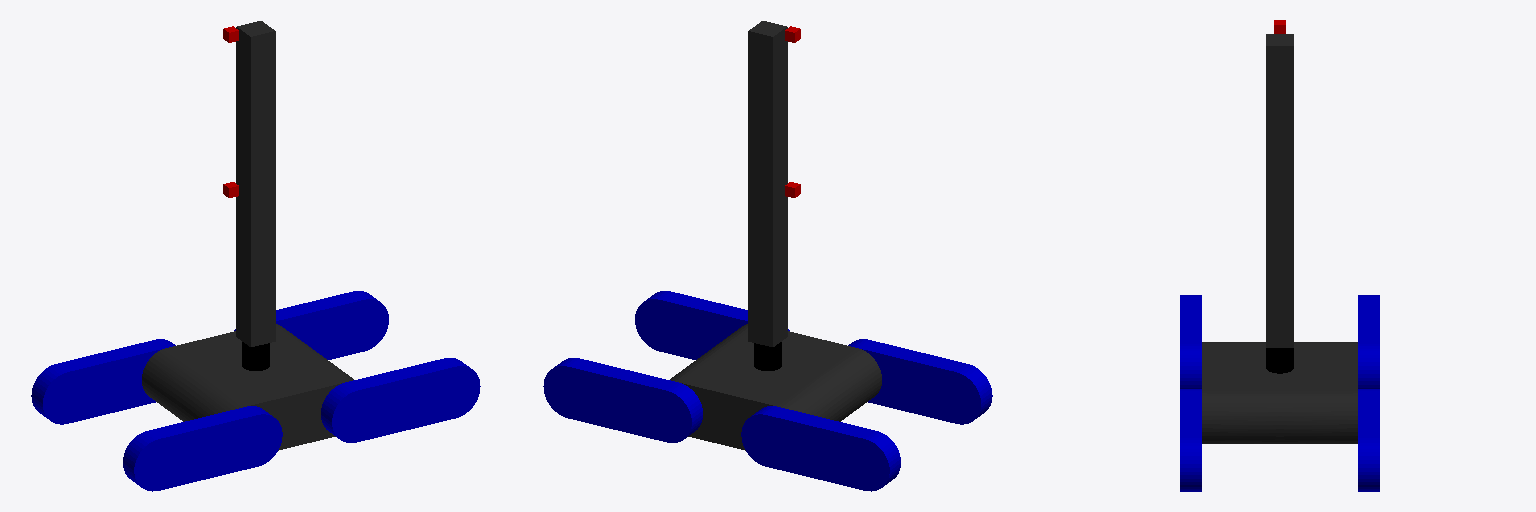
URDF robot description (tracked):
<?xml version="1.0" ?>
<!-- =================================================================================== -->
<!-- |    This document was autogenerated by xacro from [local-path]/kitani_ws/src/sne_rollover_recovery/tracked_robot/tracked_description/urdf/gazebo/tracked.xacro | -->
<!-- |    EDITING THIS FILE BY HAND IS NOT RECOMMENDED                                 | -->
<!-- =================================================================================== -->
<!-- Revolute-Revolute Manipulator -->
<robot name="tracked" xmlns:xacro="http://www.ros.org/wiki/xacro">
  <!-- Constants for robot dimensions -->
  <!-- flipper mass -->
  <!-- main mass -->
  <!-- motor1 mass -->
  <!-- motor2 mass -->
  <!-- motor3 mass -->
  <!-- motor4 mass -->
  <!-- l2 mass -->
  <!-- l3 mass -->
  <!-- flipper height -->
  <!-- flipper depth -->
  <!-- flipper width -->
  <!-- flipper axis width -->
  <!-- main height -->
  <!-- main depth -->
  <!-- main width -->
  <!-- main axis width -->
  <!-- l1 -->
  <!-- link2 length -->
  <!-- link3 length -->
  <!-- motor height -->
  <!-- Square dimensions (widthxwidth) of beams -->
  <!-- Link 1 -->
  <!-- Link 2 -->
  <!-- Link 3 -->
  <!-- arbitrary value for mass -->
  <!-- velocity limit of arm motor -->
  <!-- effort limit of arm motor -->
  <!-- velocity limit of flipper motor -->
  <!-- effort limit of flipper motor -->
  <!-- Size of square 'camera' box -->
  <!-- Space btw top of beam and the each joint -->
  <!-- Import all Gazebo-customization elements, including Gazebo colors -->
  <!-- ros_control plugin -->
  <gazebo>
    <plugin filename="libgazebo_ros_control.so" name="gazebo_ros_control">
      <robotNamespace>/tracked</robotNamespace>
      <robotSimType>gazebo_ros_control/DefaultRobotHWSim</robotSimType>
    </plugin>
  </gazebo>
  <gazebo reference="FL">
    <!--    <selfCollide>true</selfCollide>-->
    <mu1>0.8</mu1>
    <mu2>0.5</mu2>
    <material>Gazebo/Blue</material>
  </gazebo>
  <gazebo reference="FR">
    <!--    <selfCollide>true</selfCollide>-->
    <mu1>0.8</mu1>
    <mu2>0.5</mu2>
    <material>Gazebo/Blue</material>
  </gazebo>
  <gazebo reference="RL">
    <!--    <selfCollide>true</selfCollide>-->
    <mu1>0.8</mu1>
    <mu2>0.5</mu2>
    <material>Gazebo/Blue</material>
  </gazebo>
  <gazebo reference="RR">
    <!--    <selfCollide>true</selfCollide>-->
    <mu1>0.8</mu1>
    <mu2>0.5</mu2>
    <material>Gazebo/Blue</material>
  </gazebo>
  <gazebo reference="base">
    <mu1>0.8</mu1>
    <mu2>0.5</mu2>
    <material>Gazebo/Grey</material>
  </gazebo>
  <gazebo reference="link2">
    <mu1>0.8</mu1>
    <mu2>0.5</mu2>
    <material>Gazebo/Grey</material>
  </gazebo>
  <gazebo reference="link3">
    <mu1>0.8</mu1>
    <mu2>0.5</mu2>
    <material>Gazebo/Grey</material>
  </gazebo>
  <gazebo reference="m1">
    <mu1>0.8</mu1>
    <mu2>0.5</mu2>
    <material>Gazebo/Grey</material>
  </gazebo>
  <gazebo reference="wheel_right_front">
    <mu1>0.2</mu1>
    <mu2>0.2</mu2>
  </gazebo>
  <gazebo reference="wheel_right_rear">
    <mu1>0.2</mu1>
    <mu2>0.2</mu2>
  </gazebo>
  <gazebo reference="wheel_left_front">
    <mu1>0.2</mu1>
    <mu2>0.2</mu2>
  </gazebo>
  <gazebo reference="wheel_left_rear">
    <mu1>0.2</mu1>
    <mu2>0.2</mu2>
  </gazebo>
  <!-- camera_link -->
  <gazebo reference="camera1">
    <mu1>0.2</mu1>
    <mu2>0.2</mu2>
    <material>Gazebo/Red</material>
  </gazebo>
  <gazebo reference="camera2">
    <mu1>0.2</mu1>
    <mu2>0.2</mu2>
    <material>Gazebo/Red</material>
  </gazebo>
  <!-- hokuyo -->
  <gazebo reference="hokuyo">
    <sensor name="head_hokuyo_sensor" type="gpu_ray">
      <pose>0 0 0 0 0 0</pose>
      <visualize>false</visualize>
      <update_rate>40</update_rate>
      <ray>
        <scan>
          <horizontal>
            <samples>720</samples>
            <resolution>1</resolution>
            <min_angle>-1.570796</min_angle>
            <max_angle>1.570796</max_angle>
          </horizontal>
        </scan>
        <range>
          <min>0.10</min>
          <max>30.0</max>
          <resolution>0.01</resolution>
        </range>
        <noise>
          <type>gaussian</type>
          <!-- Noise parameters based on published spec for Hokuyo laser
               achieving "+-30mm" accuracy at range < 10m.  A mean of 0.0m and
               stddev of 0.01m will put 99.7% of samples within 0.03m of the true
               reading. -->
          <mean>0.0</mean>
          <stddev>0.01</stddev>
        </noise>
      </ray>
      <plugin filename="libgazebo_ros_gpu_laser.so" name="gazebo_ros_head_hokuyo_controller">
        <topicName>/tracked/laser/scan</topicName>
        <frameName>hokuyo</frameName>
      </plugin>
    </sensor>
  </gazebo>
  <!-- camera -->
  <gazebo reference="camera1_optical">
    <sensor name="camera1_optical" type="camera">
      <update_rate>30.0</update_rate>
      <camera name="head">
        <horizontal_fov>1.3962634</horizontal_fov>
        <image>
          <width>640</width>
          <height>480</height>
          <format>R8G8B8</format>
        </image>
        <clip>
          <near>0.02</near>
          <far>300</far>
        </clip>
        <noise>
          <type>gaussian</type>
          <!-- Noise is sampled independently per pixel on each frame.
               That pixel's noise value is added to each of its color
               channels, which at that point lie in the range [0,1]. -->
          <mean>0.0</mean>
          <stddev>0.007</stddev>
        </noise>
      </camera>
      <plugin filename="libgazebo_ros_camera.so" name="camera_controller">
        <alwaysOn>true</alwaysOn>
        <updateRate>0.0</updateRate>
        <cameraName>tracked/camera1</cameraName>
        <imageTopicName>image_raw</imageTopicName>
        <cameraInfoTopicName>camera_info</cameraInfoTopicName>
        <frameName>camera1_link_optical</frameName>
        <!-- setting hackBaseline to anything but 0.0 will cause a misalignment
            between the gazebo sensor image and the frame it is supposed to
            be attached to -->
        <hackBaseline>0.0</hackBaseline>
        <distortionK1>0.0</distortionK1>
        <distortionK2>0.0</distortionK2>
        <distortionK3>0.0</distortionK3>
        <distortionT1>0.0</distortionT1>
        <distortionT2>0.0</distortionT2>
        <CxPrime>0</CxPrime>
        <Cx>0.0</Cx>
        <Cy>0.0</Cy>
        <focalLength>0.0</focalLength>
      </plugin>
    </sensor>
  </gazebo>
  <!-- camera -->
  <gazebo reference="camera2_optical">
    <sensor name="camera2_optical" type="camera">
      <update_rate>30.0</update_rate>
      <camera name="head">
        <horizontal_fov>1.3962634</horizontal_fov>
        <image>
          <width>640</width>
          <height>480</height>
          <format>R8G8B8</format>
        </image>
        <clip>
          <near>0.02</near>
          <far>300</far>
        </clip>
        <noise>
          <type>gaussian</type>
          <!-- Noise is sampled independently per pixel on each frame.
               That pixel's noise value is added to each of its color
               channels, which at that point lie in the range [0,1]. -->
          <mean>0.0</mean>
          <stddev>0.007</stddev>
        </noise>
      </camera>
      <plugin filename="libgazebo_ros_camera.so" name="camera_controller">
        <alwaysOn>true</alwaysOn>
        <updateRate>0.0</updateRate>
        <cameraName>tracked/camera2</cameraName>
        <imageTopicName>image_raw</imageTopicName>
        <cameraInfoTopicName>camera_info</cameraInfoTopicName>
        <frameName>camera1_link_optical</frameName>
        <!-- setting hackBaseline to anything but 0.0 will cause a misalignment
            between the gazebo sensor image and the frame it is supposed to
            be attached to -->
        <hackBaseline>0.0</hackBaseline>
        <distortionK1>0.0</distortionK1>
        <distortionK2>0.0</distortionK2>
        <distortionK3>0.0</distortionK3>
        <distortionT1>0.0</distortionT1>
        <distortionT2>0.0</distortionT2>
        <CxPrime>0</CxPrime>
        <Cx>0.0</Cx>
        <Cy>0.0</Cy>
        <focalLength>0.0</focalLength>
      </plugin>
    </sensor>
  </gazebo>
  <!-- Import Rviz colors -->
  <material name="black">
    <color rgba="0.0 0.0 0.0 1.0"/>
  </material>
  <material name="blue">
    <color rgba="0.0 0.0 0.8 1.0"/>
  </material>
  <material name="green">
    <color rgba="0.0 0.8 0.0 1.0"/>
  </material>
  <material name="grey">
    <color rgba="0.2 0.2 0.2 1.0"/>
  </material>
  <material name="orange">
    <color rgba="1.0 0.423529411765 0.0392156862745 1.0"/>
  </material>
  <material name="brown">
    <color rgba="0.870588235294 0.811764705882 0.764705882353 1.0"/>
  </material>
  <material name="red">
    <color rgba="0.8 0.0 0.0 1.0"/>
  </material>
  <material name="white">
    <color rgba="1.0 1.0 1.0 1.0"/>
  </material>
  <!-- arm xacro files-->
  <!--You can import one of them-->
  <!--  <xacro:include filename="$(find tracked_description)/urdf/gazebo/tracked_arm_continuous_position.xacro" />-->
  <joint name="base2m1" type="revolute">
    <parent link="base"/>
    <child link="m1"/>
    <origin rpy="0 0 3.14159265359" xyz="0 0 0.05"/>
    <axis xyz="0 0 1"/>
    <limit effort="10" lower="-3.14159265359" upper="3.14159265359" velocity="3"/>
    <dynamics damping="0.7"/>
  </joint>
  <link name="m1">
    <collision>
      <origin rpy="0 0 0" xyz="0 0 0.025"/>
      <geometry>
        <mesh filename="package://tracked_description/meshes/motor_a.stl"/>
      </geometry>
    </collision>
    <visual>
      <origin rpy="0 0 0" xyz="0 0 0.025"/>
      <geometry>
        <mesh filename="package://tracked_description/meshes/motor_a.stl"/>
      </geometry>
      <material name="black"/>
    </visual>
    <inertial>
      <origin rpy="0 0 0" xyz="0 0 0.025"/>
      <mass value="0.2"/>
      <inertia ixx="0.000907922" ixy="0.0" ixz="0.0" iyy="0.007360669" iyz="0.0" izz="0.006719413"/>
    </inertial>
  </link>
  <joint name="joint1" type="revolute">
    <parent link="m1"/>
    <child link="link2"/>
    <origin rpy="0 0 0" xyz="0 0 0.05"/>
    <axis xyz="0 -1 0"/>
    <limit effort="1000000" lower="-3.14159265359" upper="3.14159265359" velocity="3"/>
    <dynamics damping="0.7"/>
  </joint>
  <!-- Middle Link -->
  <link name="link2">
    <collision>
      <origin rpy="0 0 0" xyz="0 0 0.15"/>
      <geometry>
        <box size="0.05 0.05 0.3"/>
      </geometry>
    </collision>
    <visual>
      <origin rpy="0 0 0" xyz="0 0 0.15"/>
      <geometry>
        <box size="0.05 0.05 0.3"/>
      </geometry>
      <material name="grey"/>
    </visual>
    <inertial>
      <origin rpy="0 0 0" xyz="0 0 0.15"/>
      <mass value="0.8"/>
      <inertia ixx="0.00616666666667" ixy="0.0" ixz="0.0" iyy="0.00616666666667" iyz="0.0" izz="0.000333333333333"/>
    </inertial>
  </link>
  <joint name="joint2" type="revolute">
    <parent link="link2"/>
    <child link="link3"/>
    <origin rpy="0 0 0" xyz="0 0 0.3"/>
    <axis xyz="0 1 0"/>
    <limit effort="1000000" lower="-3.14159265359" upper="3.14159265359" velocity="3"/>
    <dynamics damping="0.7"/>
  </joint>
  <!-- Top Link -->
  <link name="link3">
    <collision>
      <origin rpy="0 0 0" xyz="0 0 0.15"/>
      <geometry>
        <box size="0.05 0.05 0.3"/>
      </geometry>
    </collision>
    <visual>
      <origin rpy="0 0 0" xyz="0 0 0.15"/>
      <geometry>
        <box size="0.05 0.05 0.3"/>
      </geometry>
      <material name="grey"/>
    </visual>
    <inertial>
      <origin rpy="0 0 0" xyz="0 0 0.15"/>
      <mass value="0.3"/>
      <inertia ixx="0.00616666666667" ixy="0.0" ixz="0.0" iyy="0.00616666666667" iyz="0.0" izz="0.000333333333333"/>
    </inertial>
  </link>
  <joint name="link3_2camera2" type="fixed">
    <parent link="link3"/>
    <child link="camera2"/>
    <origin rpy="3.14159265359 1.57079632679 3.14159265359" xyz="0.05 0 0.3"/>
  </joint>
  <link name="camera2">
    <visual>
      <origin rpy="0 0 0" xyz="0 0 0"/>
      <geometry>
        <box size="0.02 0.02 0.02"/>
      </geometry>
      <material name="red"/>
    </visual>
  </link>
  <joint name="link3_2camera1" type="fixed">
    <origin rpy="3.14159265359 1.57079632679 3.14159265359" xyz="0.05 0 0"/>
    <parent link="link3"/>
    <child link="camera1"/>
  </joint>
  <!-- Camera -->
  <link name="camera1">
    <visual>
      <origin rpy="0 0 0" xyz="0 0 0"/>
      <geometry>
        <box size="0.02 0.02 0.02"/>
      </geometry>
      <material name="red"/>
    </visual>
  </link>
  <!-- generate an optical frame http://www.ros.org/reps/rep-0103.html#suffix-frames
      so that ros and opencv can operate on the camera frame correctly -->
  <joint name="camera1_optical_joint" type="fixed">
    <!-- these values have to be these values otherwise the gazebo camera image
        won't be aligned properly with the frame it is supposedly originating from -->
    <origin rpy="0.0 0.0 3.14159265359" xyz="0 0 0"/>
    <parent link="camera1"/>
    <child link="camera1_optical"/>
  </joint>
  <link name="camera1_optical">
  </link>
  <joint name="camera2_optical_joint" type="fixed">
    <!-- these values have to be these values otherwise the gazebo camera image
        won't be aligned properly with the frame it is supposedly originating from -->
    <origin rpy="0.0 0.0 3.14159265359" xyz="0 0 0"/>
    <parent link="camera2"/>
    <child link="camera2_optical"/>
  </joint>
  <link name="camera2_optical">
  </link>
  <transmission name="tran_base2m1">
    <type>transmission_interface/SimpleTransmission</type>
    <joint name="base2m1">
      <hardwareInterface>PositionJointInterface</hardwareInterface>
    </joint>
    <actuator name="motor_base2m1">
      <hardwareInterface>PositionJointInterface</hardwareInterface>
      <mechanicalReduction>1</mechanicalReduction>
    </actuator>
  </transmission>
  <transmission name="tran_joint1">
    <type>transmission_interface/SimpleTransmission</type>
    <joint name="joint1">
      <hardwareInterface>PositionJointInterface</hardwareInterface>
    </joint>
    <actuator name="motor_joint1">
      <hardwareInterface>PositionJointInterface</hardwareInterface>
      <mechanicalReduction>1</mechanicalReduction>
    </actuator>
  </transmission>
  <transmission name="tran_joint2">
    <type>transmission_interface/SimpleTransmission</type>
    <joint name="joint2">
      <hardwareInterface>PositionJointInterface</hardwareInterface>
    </joint>
    <actuator name="motor_joint2">
      <hardwareInterface>PositionJointInterface</hardwareInterface>
      <mechanicalReduction>1</mechanicalReduction>
    </actuator>
  </transmission>
  <!-- Force and torque sensor -->
  <gazebo reference="joint1">
    <provideFeedback>true</provideFeedback>
  </gazebo>
  <gazebo>
    <plugin filename="libgazebo_ros_ft_sensor.so" name="ft_sensor">
      <updateRate>100.0</updateRate>
      <topicName>/tracked/ft_sensor_joint1</topicName>
      <jointName>joint1</jointName>
    </plugin>
  </gazebo>
  <gazebo reference="joint2">
    <provideFeedback>true</provideFeedback>
  </gazebo>
  <gazebo>
    <plugin filename="libgazebo_ros_ft_sensor.so" name="ft_sensor">
      <updateRate>100.0</updateRate>
      <topicName>/tracked/ft_sensor_joint2</topicName>
      <jointName>joint2</jointName>
    </plugin>
  </gazebo>
  <!--  <xacro:include filename="$(find tracked_description)/urdf/gazebo/tracked_arm_revolute_effort.xacro" />-->
  <!-- fake crawler xacro files-->
  <!-- This model is not completed-->
  <!--  <xacro:include filename="$(find tracked_description)/urdf/gazebo/tracked_wheel.xacro" />-->
  <!-- Used for fixing robot to Gazebo 'base_link' -->
  <link name="world"/>
  <joint name="world2base" type="floating">
    <parent link="world"/>
    <child link="base"/>
  </joint>
  <!-- Base Link -->
  <link name="base">
    <collision>
      <origin rpy="0 0 0" xyz="0 0 0"/>
      <geometry>
        <mesh filename="package://tracked_description/meshes/main_a.stl"/>
      </geometry>
    </collision>
    <visual>
      <origin rpy="0 0 0" xyz="0 0 0"/>
      <geometry>
        <mesh filename="package://tracked_description/meshes/main_a.stl"/>
      </geometry>
      <material name="grey"/>
    </visual>
    <inertial>
      <origin rpy="0 0 0" xyz="0 0 0"/>
      <mass value="30"/>
      <inertia ixx="0.219237688" ixy="0.0" ixz="0.0" iyy="0.220820092" iyz="0.0" izz="0.393582403"/>
    </inertial>
  </link>
  <joint name="base2FL" type="continuous">
    <parent link="base"/>
    <child link="FL"/>
    <origin rpy="0 0 0" xyz="0.1 0.16 0"/>
    <axis xyz="0 1 0"/>
    <dynamics damping="0.7"/>
  </joint>
  <link name="FL">
    <collision>
      <origin rpy="0 0 0" xyz="0.1 0 0"/>
      <geometry>
        <mesh filename="package://tracked_description/meshes/flipper_a.stl"/>
      </geometry>
    </collision>
    <visual>
      <origin rpy="0 0 0" xyz="0.1 0 0"/>
      <geometry>
        <mesh filename="package://tracked_description/meshes/flipper_a.stl"/>
      </geometry>
      <material name="blue"/>
    </visual>
    <inertial>
      <origin rpy="0 0 0" xyz="0.1 0 0"/>
      <mass value="1"/>
      <inertia ixx="0.000907922" ixy="0.0" ixz="0.0" iyy="0.007360669" iyz="0.0" izz="0.006719413"/>
    </inertial>
  </link>
  <joint name="base2RL" type="continuous">
    <parent link="base"/>
    <child link="RL"/>
    <origin rpy="0 0 0" xyz="-0.1 0.16 0"/>
    <axis xyz="0 1 0"/>
    <dynamics damping="0.7"/>
  </joint>
  <link name="RL">
    <collision>
      <origin rpy="0 0 0" xyz="-0.1 0 0"/>
      <geometry>
        <mesh filename="package://tracked_description/meshes/flipper_a.stl"/>
      </geometry>
    </collision>
    <visual>
      <origin rpy="0 0 0" xyz="-0.1 0 0"/>
      <geometry>
        <mesh filename="package://tracked_description/meshes/flipper_a.stl"/>
      </geometry>
      <material name="blue"/>
    </visual>
    <inertial>
      <origin rpy="0 0 0" xyz="-0.1 0 0"/>
      <mass value="1"/>
      <inertia ixx="0.000907922" ixy="0.0" ixz="0.0" iyy="0.007360669" iyz="0.0" izz="0.006719413"/>
    </inertial>
  </link>
  <joint name="base2FR" type="continuous">
    <parent link="base"/>
    <child link="FR"/>
    <origin rpy="0 0 0" xyz="0.1 -0.16 0"/>
    <axis xyz="0 1 0"/>
    <dynamics damping="0.7"/>
  </joint>
  <link name="FR">
    <collision>
      <origin rpy="0 0 0" xyz="0.1 0 0"/>
      <geometry>
        <mesh filename="package://tracked_description/meshes/flipper_a.stl"/>
      </geometry>
    </collision>
    <visual>
      <origin rpy="0 0 0" xyz="0.1 0 0"/>
      <geometry>
        <mesh filename="package://tracked_description/meshes/flipper_a.stl"/>
      </geometry>
      <material name="blue"/>
    </visual>
    <inertial>
      <origin rpy="0 0 0" xyz="0.1 0 0"/>
      <mass value="1"/>
      <inertia ixx="0.000907922" ixy="0.0" ixz="0.0" iyy="0.007360669" iyz="0.0" izz="0.006719413"/>
    </inertial>
  </link>
  <joint name="base2RR" type="continuous">
    <parent link="base"/>
    <child link="RR"/>
    <origin rpy="0 0 0" xyz="-0.1 -0.16 0"/>
    <axis xyz="0 1 0"/>
    <dynamics damping="0.7"/>
  </joint>
  <link name="RR">
    <collision>
      <origin rpy="0 0 0" xyz="-0.1 0 0"/>
      <geometry>
        <mesh filename="package://tracked_description/meshes/flipper_a.stl"/>
      </geometry>
    </collision>
    <visual>
      <origin rpy="0 0 0" xyz="-0.1 0 0"/>
      <geometry>
        <mesh filename="package://tracked_description/meshes/flipper_a.stl"/>
      </geometry>
      <material name="blue"/>
    </visual>
    <inertial>
      <origin rpy="0 0 0" xyz="-0.1 0 0"/>
      <mass value="1"/>
      <inertia ixx="0.000907922" ixy="0.0" ixz="0.0" iyy="0.007360669" iyz="0.0" izz="0.006719413"/>
    </inertial>
  </link>
  <joint name="base2hokuyo" type="fixed">
    <axis xyz="0 1 0"/>
    <origin rpy="0 0 0" xyz="0.0866666666667 0 0.08"/>
    <parent link="base"/>
    <child link="hokuyo"/>
  </joint>
  <!-- Hokuyo Laser -->
  <link name="hokuyo">
    <visual>
      <origin rpy="0 0 0" xyz="0 0 0"/>
      <geometry>
        <mesh filename="package://tracked_description/meshes/hokuyo.dae"/>
      </geometry>
    </visual>
  </link>
  <transmission name="tran_base2FL">
    <type>transmission_interface/SimpleTransmission</type>
    <joint name="base2FL">
      <hardwareInterface>PositionJointInterface</hardwareInterface>
    </joint>
    <actuator name="motor_base2FL">
      <hardwareInterface>PositionJointInterface</hardwareInterface>
      <mechanicalReduction>1</mechanicalReduction>
    </actuator>
  </transmission>
  <transmission name="tran_base2RL">
    <type>transmission_interface/SimpleTransmission</type>
    <joint name="base2RL">
      <hardwareInterface>PositionJointInterface</hardwareInterface>
    </joint>
    <actuator name="motor_base2RL">
      <hardwareInterface>PositionJointInterface</hardwareInterface>
      <mechanicalReduction>1</mechanicalReduction>
    </actuator>
  </transmission>
  <transmission name="tran_base2FR">
    <type>transmission_interface/SimpleTransmission</type>
    <joint name="base2FR">
      <hardwareInterface>PositionJointInterface</hardwareInterface>
    </joint>
    <actuator name="motor_base2FR">
      <hardwareInterface>PositionJointInterface</hardwareInterface>
      <mechanicalReduction>1</mechanicalReduction>
    </actuator>
  </transmission>
  <transmission name="tran_base2RR">
    <type>transmission_interface/SimpleTransmission</type>
    <joint name="base2RR">
      <hardwareInterface>PositionJointInterface</hardwareInterface>
    </joint>
    <actuator name="motor_base2RR">
      <hardwareInterface>PositionJointInterface</hardwareInterface>
      <mechanicalReduction>1</mechanicalReduction>
    </actuator>
  </transmission>
</robot>

--- Facts derived from the render (not from the file) ---
Views: 3 orthographic renders of the robot side by side, from view 1: azimuth 30°, elevation 25°; view 2: azimuth 150°, elevation 25°; view 3: azimuth 270°, elevation 25°.
Model tracked with 14 links and 13 joints (3 revolute, 4 continuous, 5 fixed, 1 floating), rooted at world, posed every joint at zero.
Visible links, largest first — view 1: base, RR, FR, RL, link3, link2, FL, m1; view 2: base, RL, FL, RR, link3, link2, FR, m1; view 3: base, link3, link2, FL, FR, RL, RR, m1.
Link boxes in pixels (<box>): base: <box>142,324,353,450</box>; RR: <box>123,406,282,491</box>; FR: <box>321,358,480,442</box>; RL: <box>31,339,175,424</box>; link3: <box>236,21,275,191</box>; link2: <box>236,182,275,346</box>; FL: <box>234,291,388,359</box>; m1: <box>242,342,269,370</box>; base: <box>670,324,881,450</box>; RL: <box>741,406,900,491</box>; FL: <box>543,358,702,442</box>; RR: <box>848,339,992,424</box>; link3: <box>748,21,787,191</box>; link2: <box>748,182,787,346</box>; FR: <box>635,291,789,359</box>; m1: <box>754,342,781,370</box>; base: <box>1202,342,1357,443</box>; link3: <box>1266,34,1293,196</box>; link2: <box>1266,197,1293,347</box>; FL: <box>1358,389,1379,491</box>; FR: <box>1180,389,1201,491</box>; RL: <box>1358,295,1379,388</box>; RR: <box>1180,295,1201,388</box>; m1: <box>1266,348,1293,373</box>.
Bounding box of the posed robot: 0.7 × 0.36 × 0.76 m (x, y, z).
6 mesh visuals loaded from 4 distinct referenced files (3 binary STL); not drawn: 1 (reference not matched to a file when rendering).
